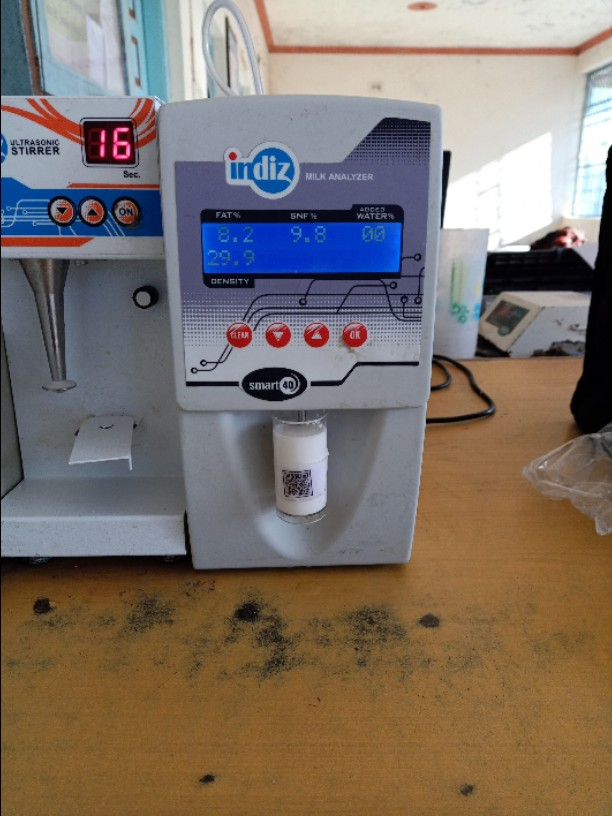lcd: (195, 219, 412, 288)
qr: (278, 466, 320, 510)
